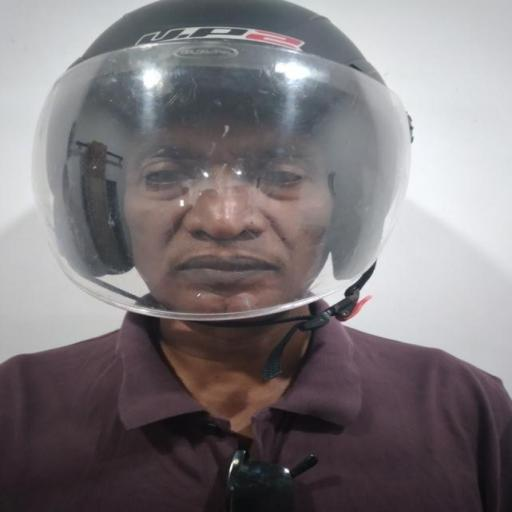with helmet: (30, 0, 416, 323)
